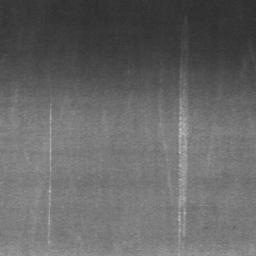Bright scratch: (178, 16, 189, 238), (48, 88, 53, 243)
